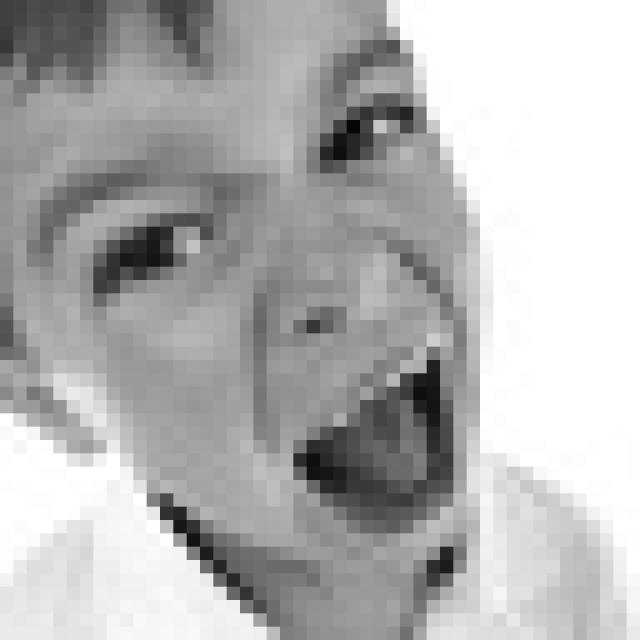angry: (42, 37, 477, 549)
